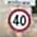limite 40: (7, 8, 31, 33)
